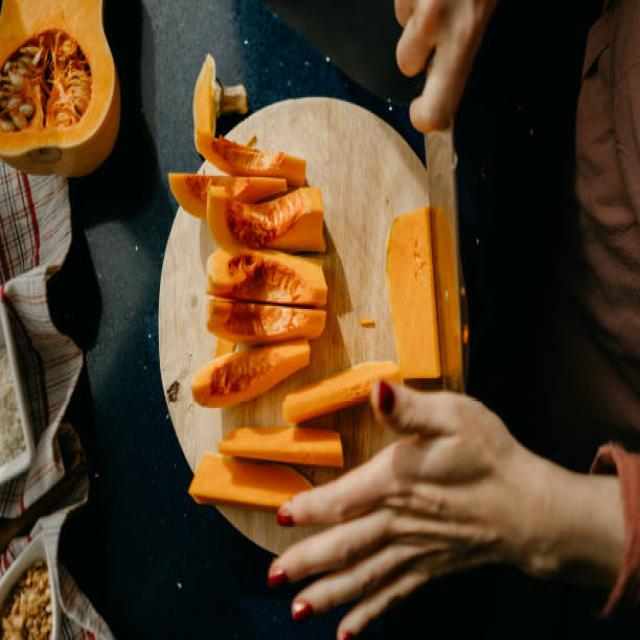pumpkin: (386, 206, 441, 378), (192, 340, 310, 406), (208, 188, 326, 252), (282, 362, 401, 423), (208, 249, 328, 307), (189, 454, 311, 509), (206, 296, 326, 344), (219, 428, 342, 468)
